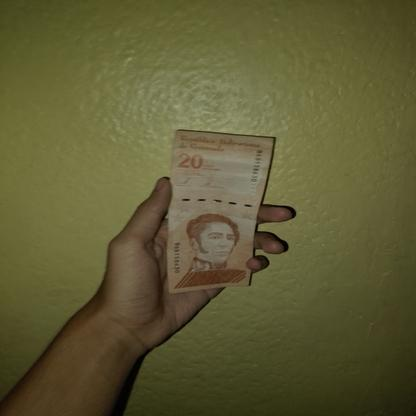twenty-front-vef: (166, 129, 275, 294)
